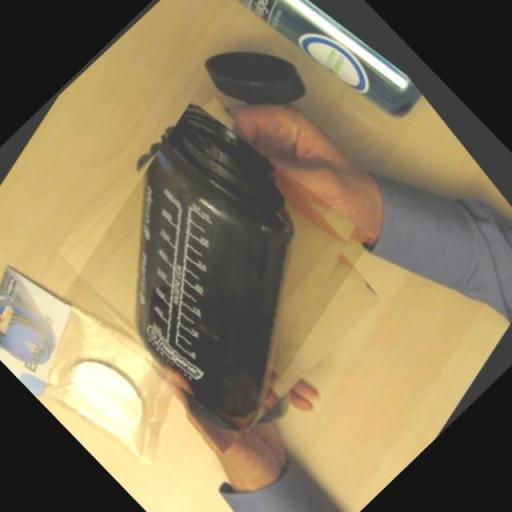bottle: (46, 87, 394, 436)
